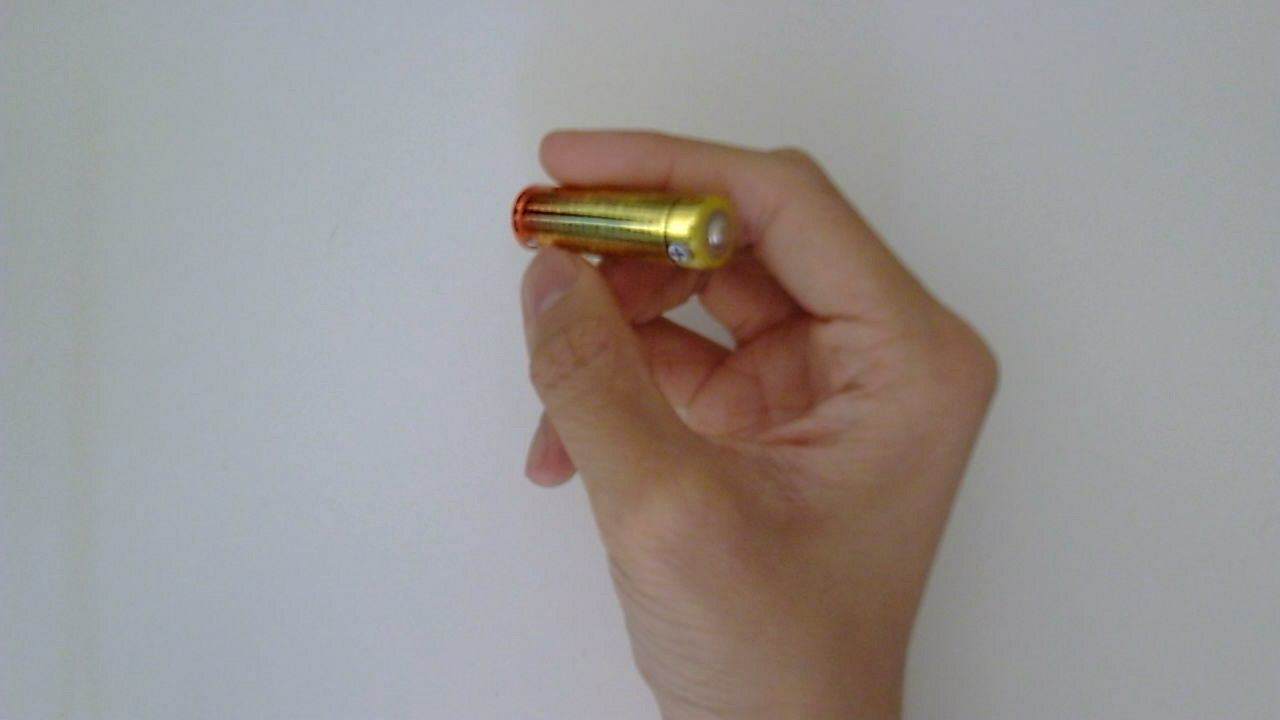Battery: (513, 188, 749, 281)
